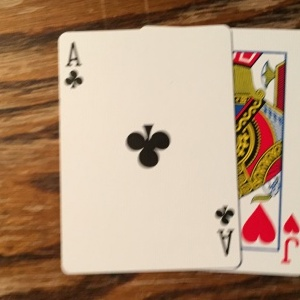card: (58, 26, 242, 274)
